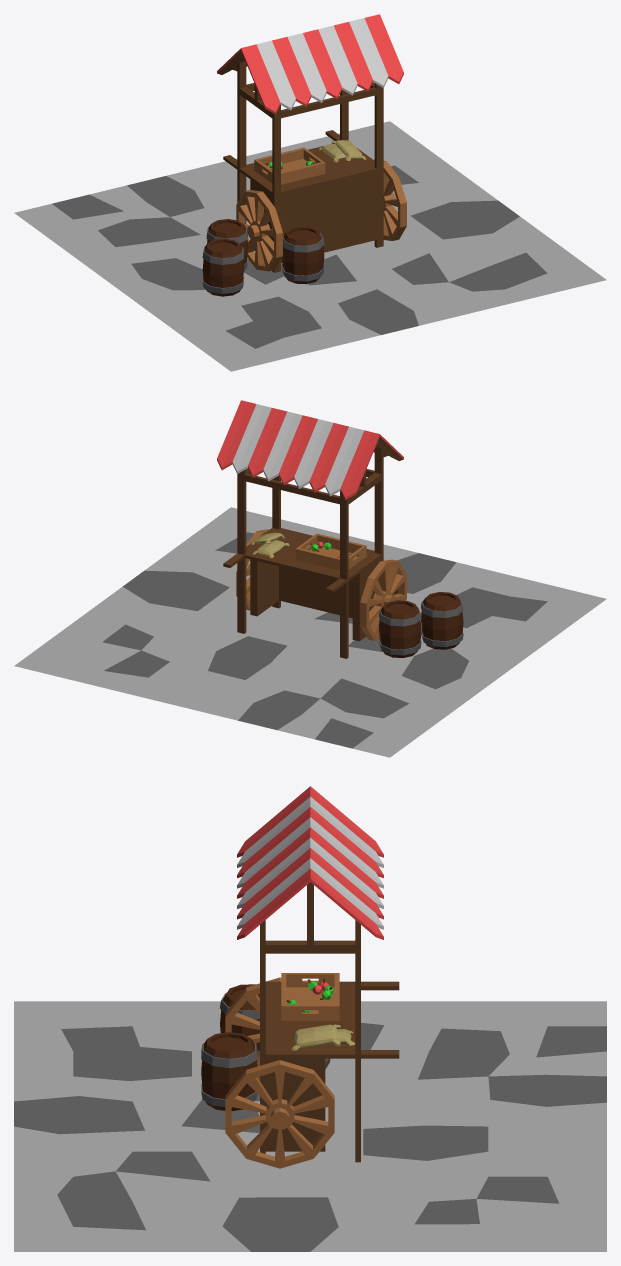
The model's file is cart_scene.fbx.
3 views of the same model, one above another, from view 1: azimuth 30°, elevation 25°; view 2: azimuth 150°, elevation 25°; view 3: azimuth 270°, elevation 25° (orthographic). The views are drawn at different scales.
Visible parts, largest first — view 1: pPlane1, pCube1, pCube2, pCylinder2, barrel, barrel2, pCube3, pCylinder1, barrel1; view 2: pPlane1, pCube1, pCube2, pCylinder2, barrel2, barrel1, pCube3; view 3: pPlane1, pCube2, pCube1, pCylinder1, barrel, pCube3, pCylinder2, barrel2, flour1.
Boxes of the visible parts, x1,y1,x2,y2 form: pPlane1: (14, 121, 606, 371); pCube1: (223, 61, 383, 272); pCube2: (217, 14, 403, 114); pCylinder2: (236, 190, 282, 271); barrel: (281, 226, 324, 284); barrel2: (202, 238, 244, 296); pCube3: (254, 147, 325, 184); pCylinder1: (374, 159, 406, 240); barrel1: (206, 219, 248, 270); pPlane1: (14, 507, 606, 757); pCube1: (223, 447, 383, 658); pCube2: (217, 400, 403, 500); pCylinder2: (360, 559, 406, 640); barrel2: (421, 592, 463, 649); barrel1: (378, 600, 421, 657); pCube3: (295, 533, 366, 570); pPlane1: (14, 1001, 606, 1251); pCube2: (237, 786, 383, 939); pCube1: (260, 882, 399, 1162); pCylinder1: (225, 1060, 334, 1168); barrel: (201, 1032, 257, 1110); pCube3: (281, 973, 339, 1020); pCylinder2: (225, 977, 327, 1079); barrel2: (220, 984, 259, 1051); flour1: (291, 1024, 340, 1050).
Bounding box in the file's own units: 5.89 × 3.22 × 5.89.
